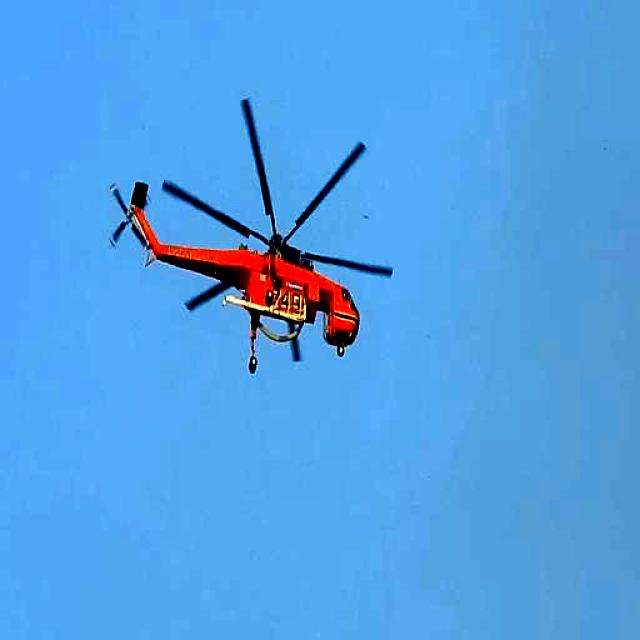drone: (106, 99, 398, 380)
